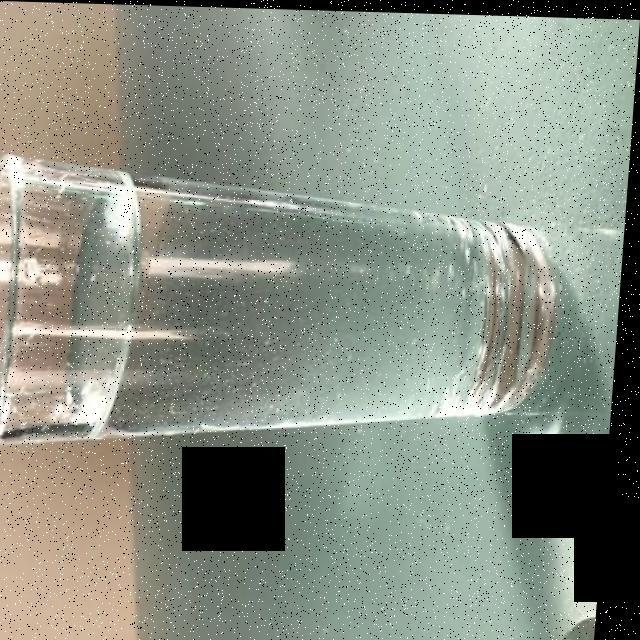water: (20, 175, 509, 441)
